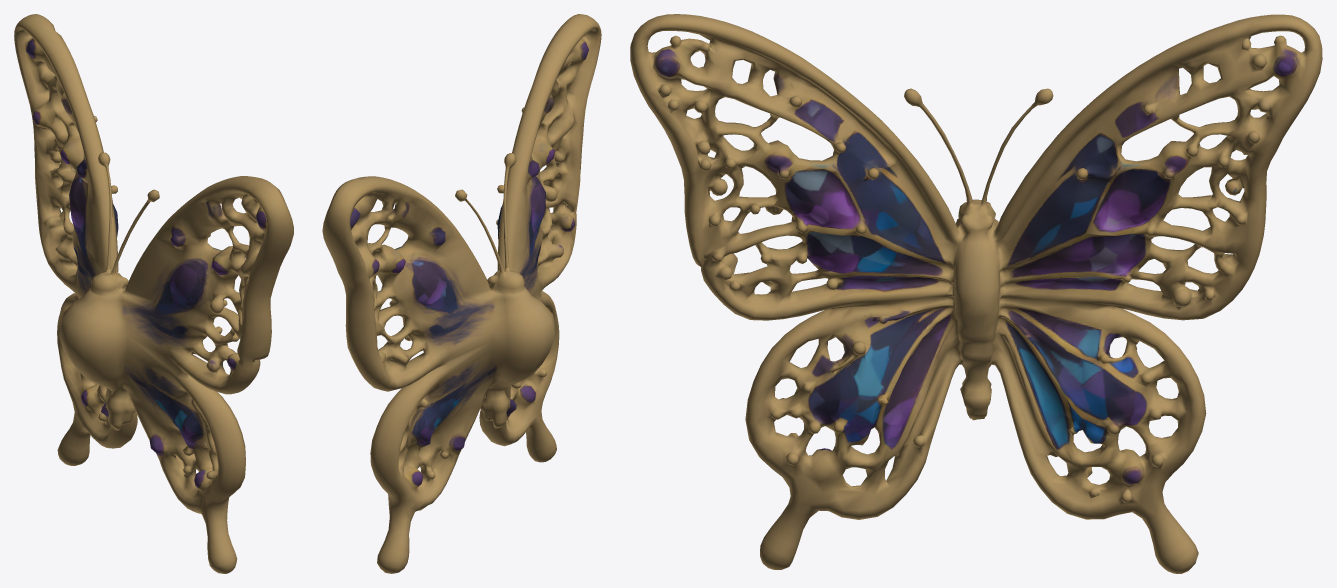
The model's file is royal-butterfly.glb.
The picture shows the model from 3 angles, left to right: view 1: azimuth 30°, elevation 25°; view 2: azimuth 150°, elevation 25°; view 3: azimuth 270°, elevation 25°; orthographic projection. The views are drawn at different scales.
Parts seen in each view (by area): view 1: tripo_node_96d4a651-94ec-45b1-ba10-f0348fbeb6bf; view 2: tripo_node_96d4a651-94ec-45b1-ba10-f0348fbeb6bf; view 3: tripo_node_96d4a651-94ec-45b1-ba10-f0348fbeb6bf.
Part boxes in pixels (x1,y1,x2,y2): tripo_node_96d4a651-94ec-45b1-ba10-f0348fbeb6bf: (14, 14, 293, 573); tripo_node_96d4a651-94ec-45b1-ba10-f0348fbeb6bf: (322, 14, 601, 573); tripo_node_96d4a651-94ec-45b1-ba10-f0348fbeb6bf: (630, 14, 1322, 573).
Size of the model in its own units: 0.2456 by 0.8892 by 0.9995.
Materials: 1 (1 with a texture image).
